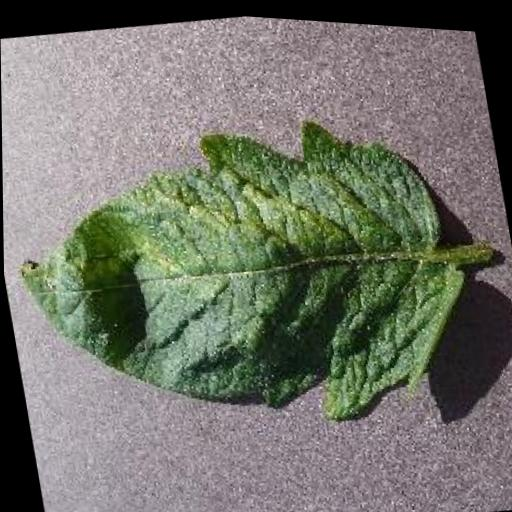Spider Mites: (1, 81, 485, 466)
